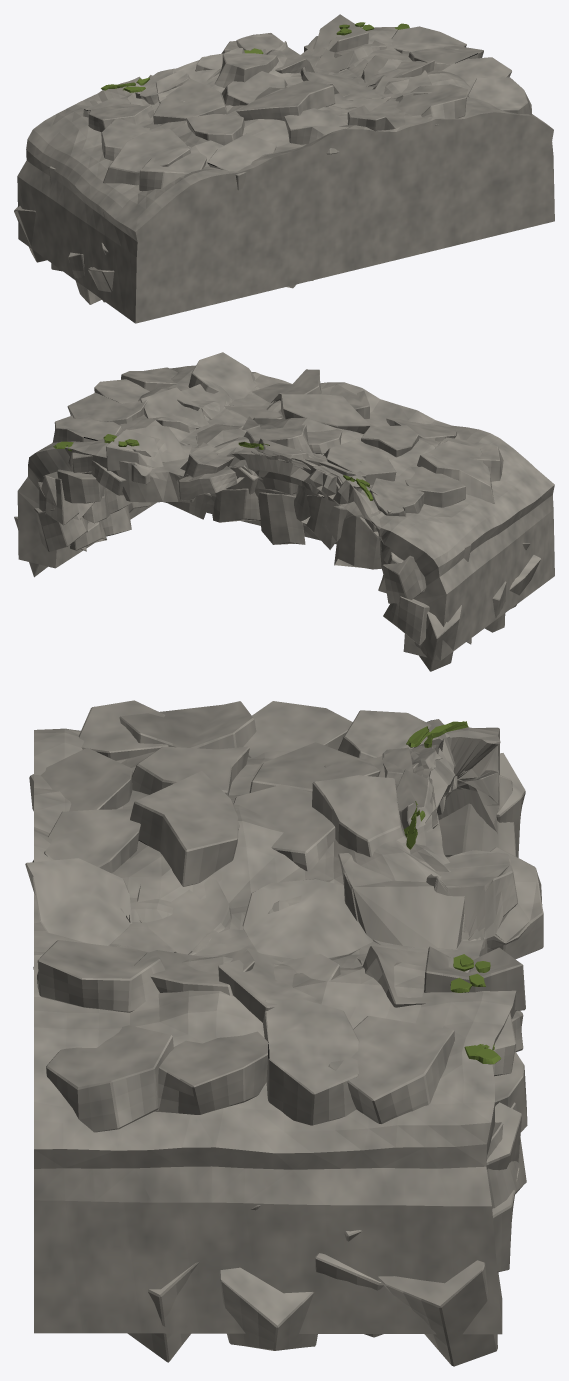
The model's file is cave_shell.fbx.
3 views of the same model, one above another, from view 1: azimuth 30°, elevation 25°; view 2: azimuth 150°, elevation 25°; view 3: azimuth 270°, elevation 25° (orthographic). The views are drawn at different scales.
Parts seen in each view (by area): view 1: CaveShell_Game; view 2: CaveShell_Game; view 3: CaveShell_Game.
Boxes of the visible parts, x1,y1,x2,y2 form: CaveShell_Game: (14,14,554,323); CaveShell_Game: (14,352,554,671); CaveShell_Game: (25,700,543,1366).
Size of the model in its own units: 17.35 by 6.8 by 8.77.
Materials: 2 (2 with a texture image).
